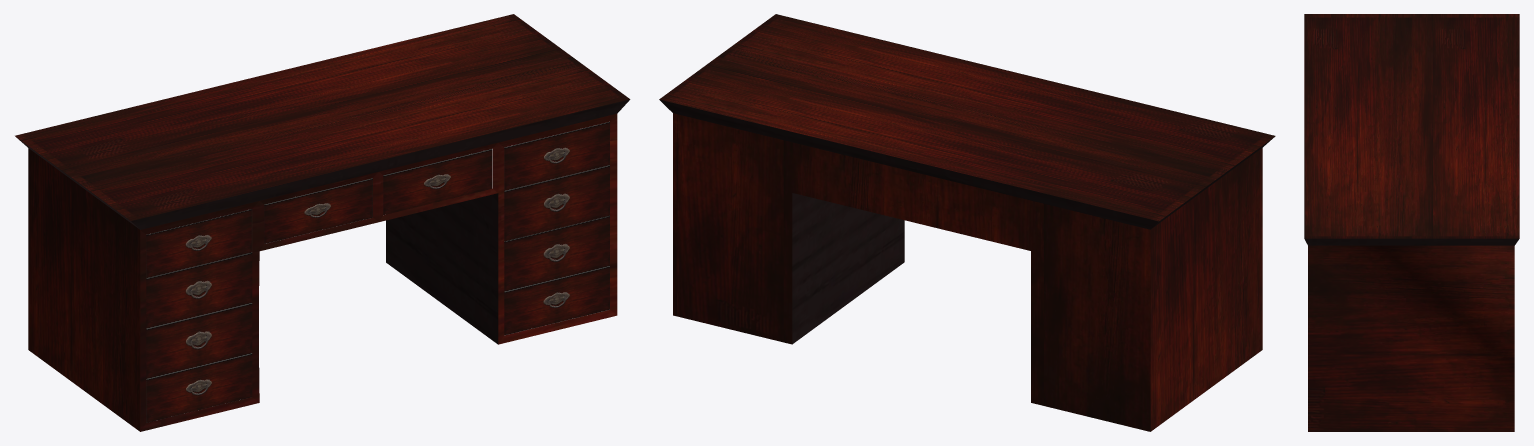
File: clerk_desk.glb
3 views of the same model, side by side, from view 1: azimuth 30°, elevation 25°; view 2: azimuth 150°, elevation 25°; view 3: azimuth 270°, elevation 25° (orthographic). The views are drawn at different scales.
Visible parts, largest first — view 1: Object_4, Object_5, Object_6; view 2: Object_4, Object_6; view 3: Object_4, Object_6.
Part boxes in pixels (x1,y1,x2,y2): Object_4: (15, 14, 629, 431); Object_5: (146, 122, 609, 422); Object_6: (16, 99, 629, 344); Object_4: (659, 14, 1275, 431); Object_6: (659, 99, 1274, 344); Object_4: (1304, 14, 1519, 431); Object_6: (1304, 238, 1519, 245).
Size of the model in its own units: 5.17 by 2.13 by 2.09.
3 materials, 3 textured.
